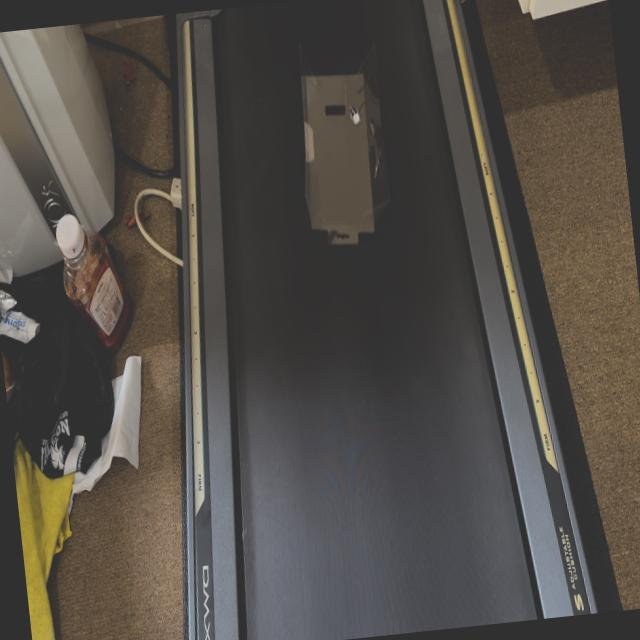Trash: (288, 51, 398, 252)
